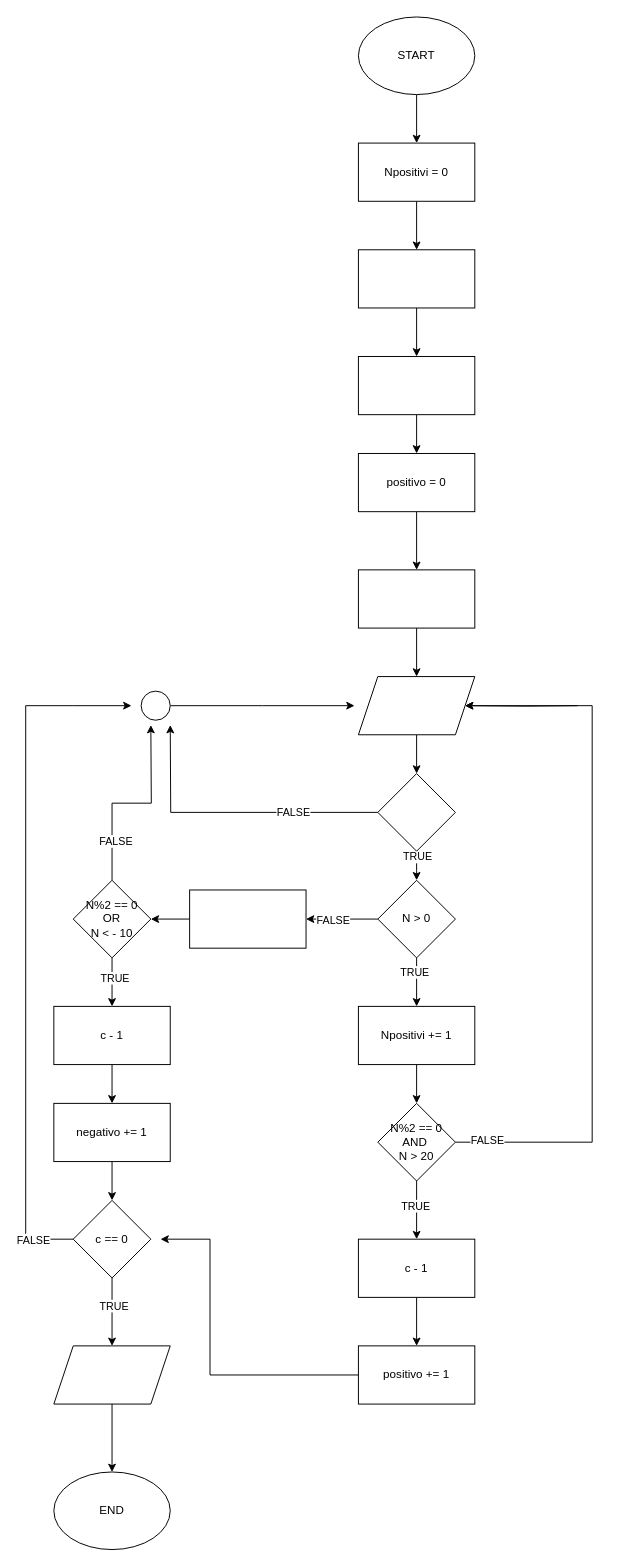
Some shapes in this 617 by 1567 pixel diagram are drawn without their labels. The shapes that lost their labels are listed below. From the top down, each one's centre as x and y in pixels, then its label:
[416,278]: Nnegativi = 0
[416,385]: negativo = 0
[416,598]: c = 10
[416,705]: Read N
[416,812]: N % 1 == 0
[247,918]: Nnegativi += 1
[111,1374]: Write Npositivi,Nnegativi, negativo, positivo
